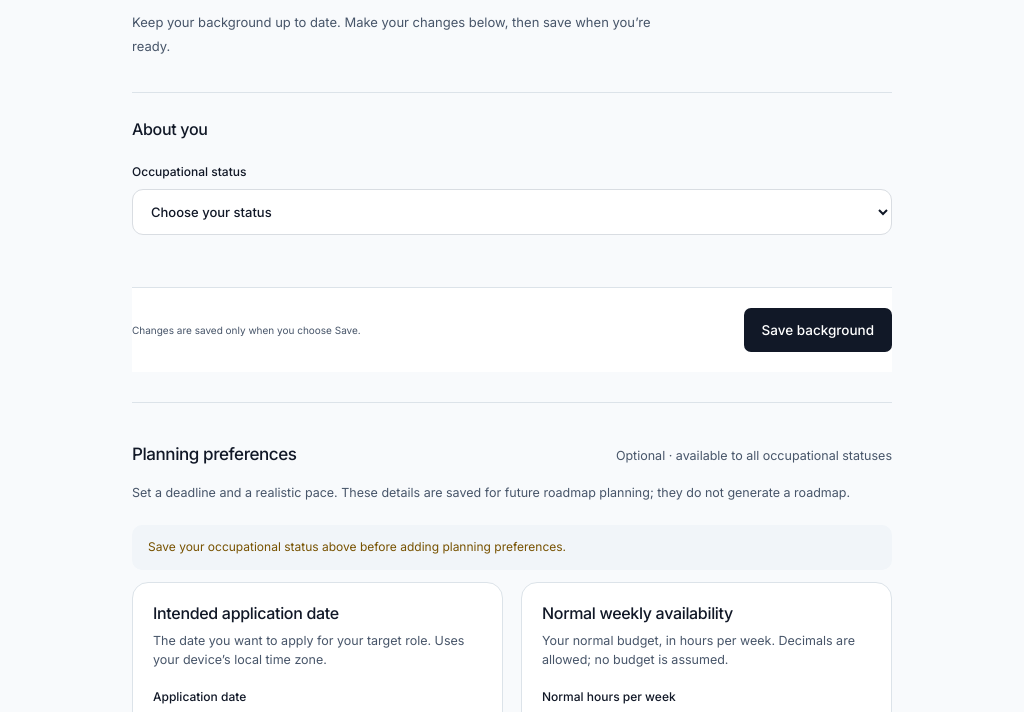
Test: local account session loads and saves without Google
The width and height of the screenshot is (1024, 712).
Expected: the button "Save background" is enabled, top-left (744, 308), bottom-right (892, 352)
Select "Employed" in the dropdown labelled "Occupational status": (512, 212) top-left (132, 189), bottom-right (892, 235)
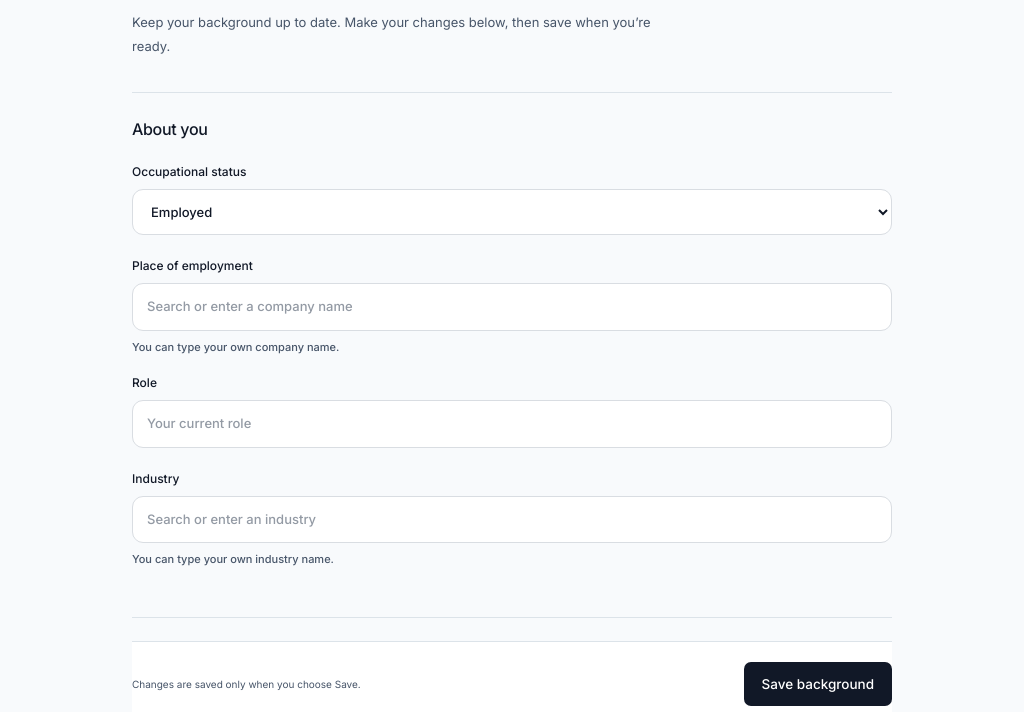
Click the button "Save background": (818, 684) top-left (744, 662), bottom-right (892, 706)
(page scrolled)
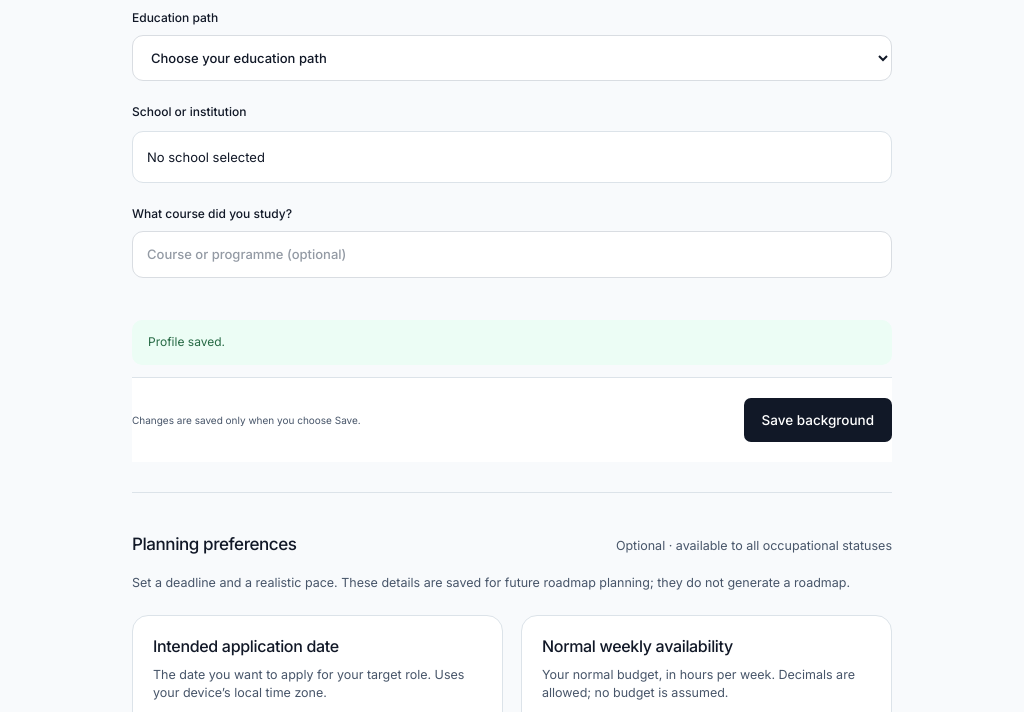
Now the text "Profile saved." is shown, box top-left (132, 320), bottom-right (892, 365)
